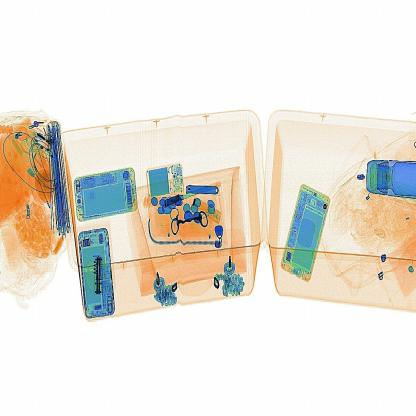scissors: (83, 253, 114, 299)
